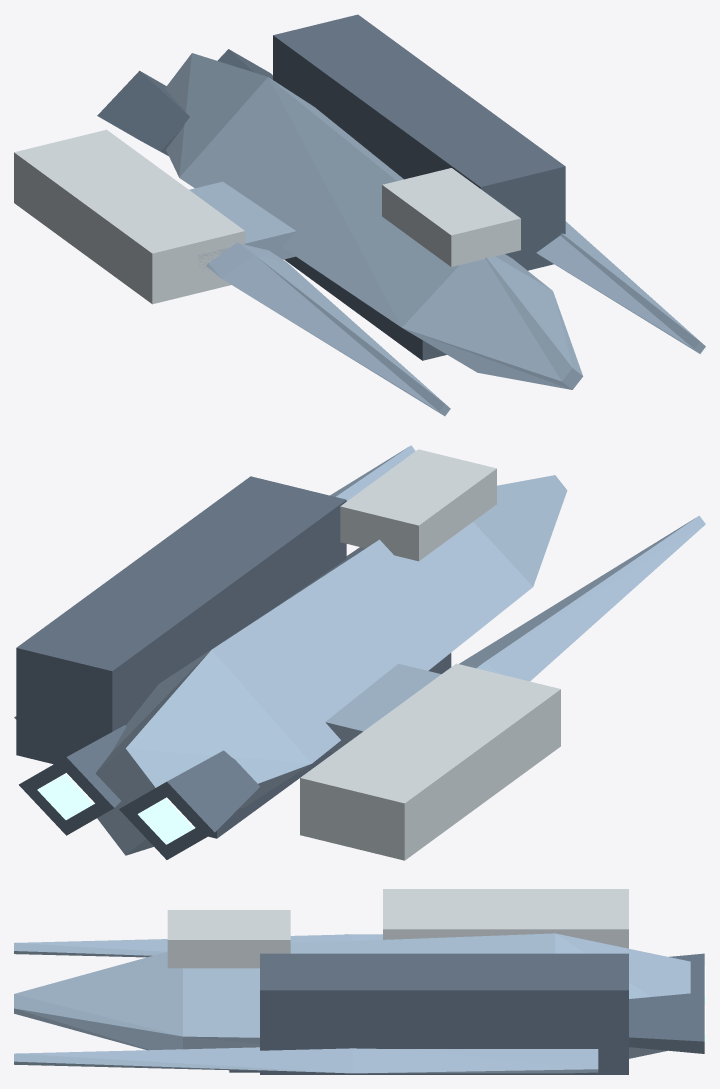
The picture shows the model from 3 angles, top to bottom: view 1: azimuth 30°, elevation 25°; view 2: azimuth 150°, elevation 25°; view 3: azimuth 270°, elevation 25°; orthographic projection. The views are drawn at different scales.
Size of the model in its own units: 2.32 by 0.9964 by 4.18.
